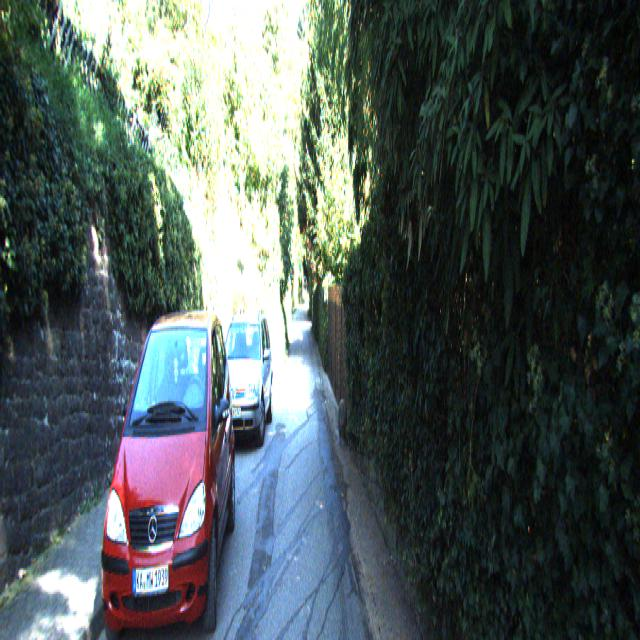Car: (90, 304, 238, 638), (213, 308, 273, 462)
